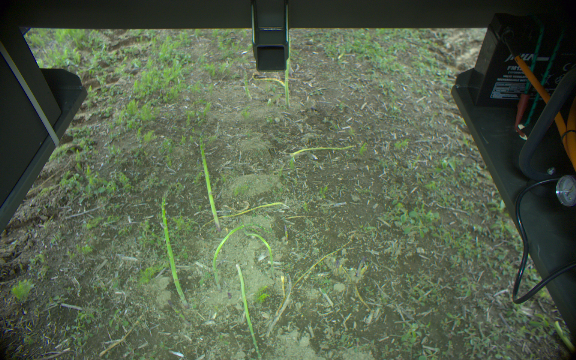aspa: (157, 193, 190, 309), (230, 258, 265, 360), (209, 221, 252, 292), (197, 138, 220, 233), (245, 231, 277, 281), (284, 28, 293, 108)
